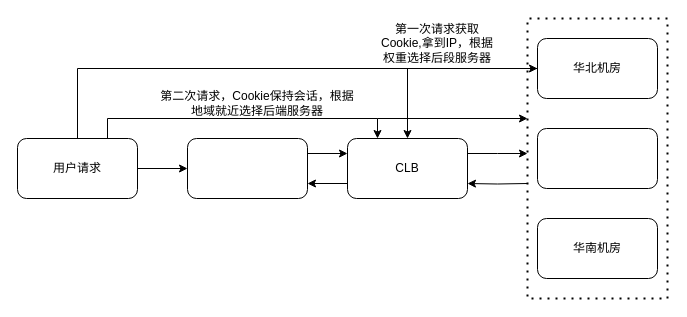
The diagram is 687 pixels wide and 317 high, and some of its shapes have lost their labels. Each missing label, with the centre of its shape:
"前端域名" belongs at (247,168).
"北中机房" belongs at (597,158).
